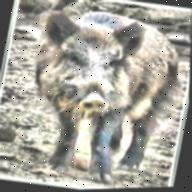boar: (10, 0, 192, 192)
